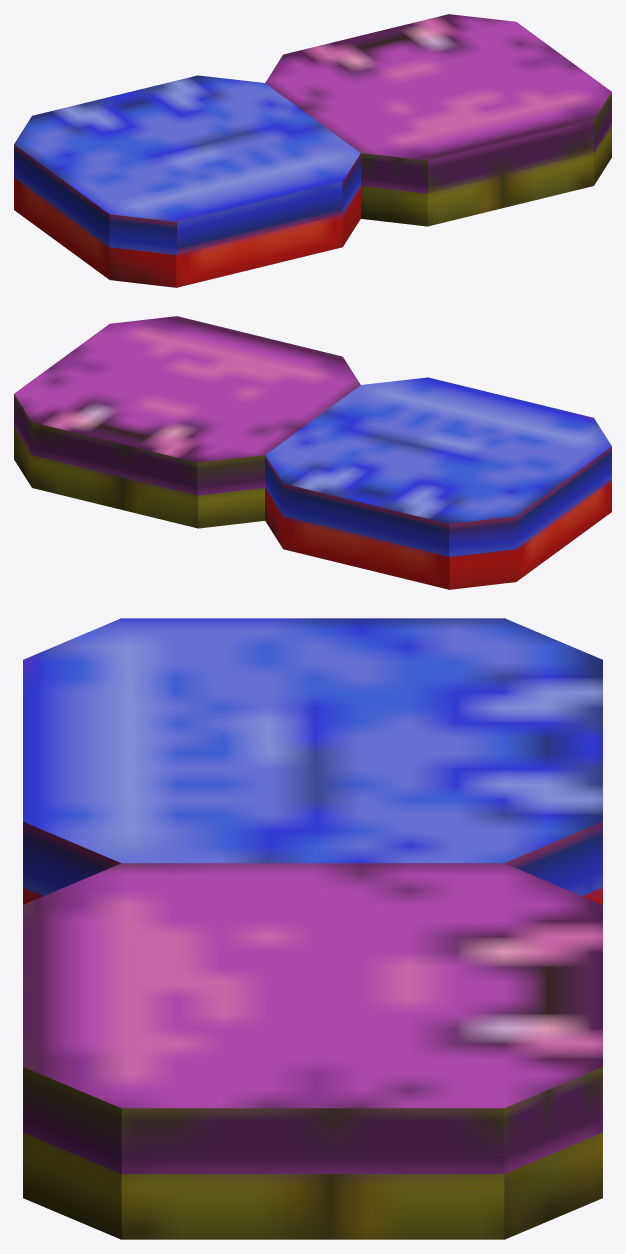
File: Poly_SF_Outside_B_Stall_Goods_04.obj
The picture shows the model from 3 angles, top to bottom: view 1: azimuth 30°, elevation 25°; view 2: azimuth 150°, elevation 25°; view 3: azimuth 270°, elevation 25°; orthographic projection. The views are drawn at different scales.
Visible parts, largest first — view 1: Cube.001; view 2: Cube.001; view 3: Cube.001.
Boxes of the visible parts, bbox=[...] form: Cube.001: bbox=[14, 14, 611, 287]; Cube.001: bbox=[14, 316, 611, 589]; Cube.001: bbox=[23, 618, 602, 1239].
Bounding box in the file's own units: 0.8 × 0.1 × 0.4.
Materials: 1 (1 with a texture image).
